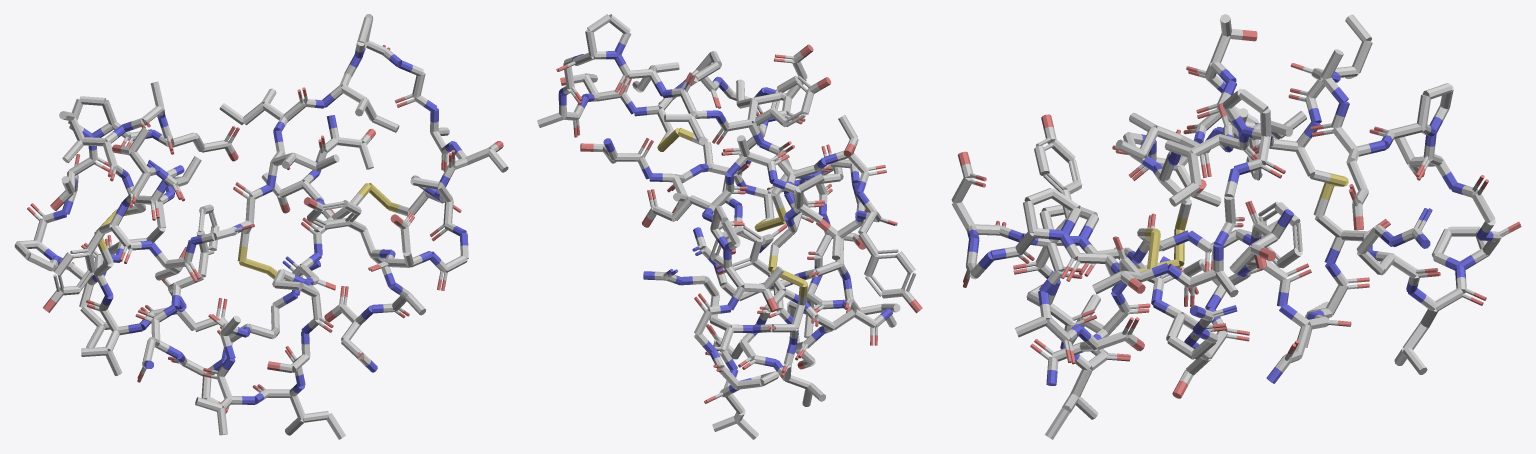
File: 1crn__sticks__default.glb
3 renders of one model, left to right at view 1: azimuth 30°, elevation 25°; view 2: azimuth 150°, elevation 25°; view 3: azimuth 270°, elevation 25°, orthographic. The views are drawn at different scales.
Visible parts, largest first — view 1: Renderer Node; view 2: Renderer Node; view 3: Renderer Node.
Boxes of the visible parts, x1=… form: Renderer Node: x1=14, y1=14, x2=508, y2=439; Renderer Node: x1=537, y1=14, x2=922, y2=439; Renderer Node: x1=951, y1=14, x2=1521, y2=439.
Size of the model in its own units: 27.7 by 21.83 by 27.29.
